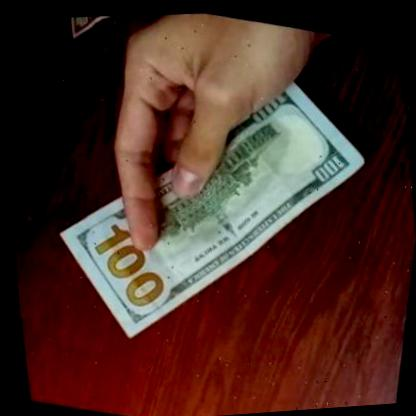dollar_back: (9, 1, 414, 399)
